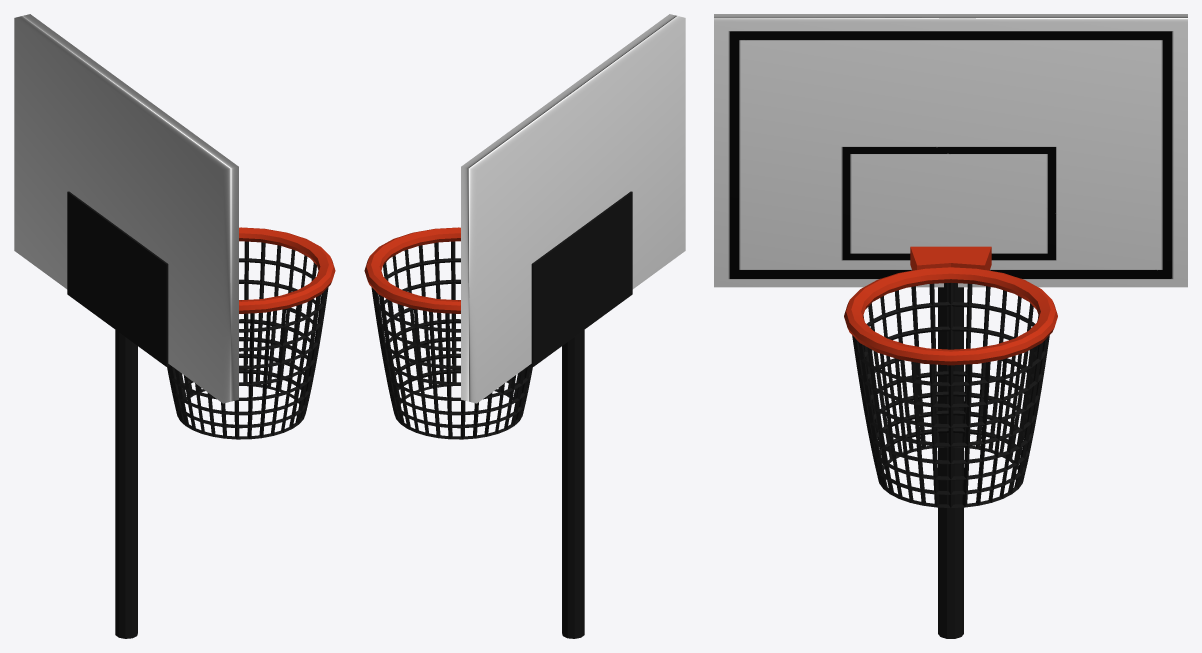
File: kos_1_kratak.obj
The picture shows the model from 3 angles, left to right: view 1: azimuth 30°, elevation 25°; view 2: azimuth 150°, elevation 25°; view 3: azimuth 270°, elevation 25°; orthographic projection. The views are drawn at different scales.
Visible parts, largest first — view 1: Cube, Cylinder.001, Cube.002, Cylinder, Torus; view 2: Cube, Cylinder.001, Cube.002, Cylinder, Torus; view 3: Cube, Cylinder.001, Torus, Cylinder, Cube.001.
Part boxes in pixels (bbox=[...]): Cube: bbox=[14, 14, 238, 403]; Cylinder.001: bbox=[167, 241, 328, 439]; Cube.002: bbox=[67, 191, 170, 366]; Cylinder: bbox=[115, 330, 137, 638]; Torus: bbox=[239, 227, 335, 313]; Cube: bbox=[461, 14, 685, 403]; Cylinder.001: bbox=[371, 241, 532, 439]; Cube.002: bbox=[529, 191, 632, 366]; Cylinder: bbox=[562, 330, 584, 638]; Torus: bbox=[364, 227, 460, 313]; Cube: bbox=[714, 14, 1187, 287]; Cylinder.001: bbox=[852, 283, 1049, 507]; Torus: bbox=[844, 267, 1057, 365]; Cylinder: bbox=[938, 283, 963, 638]; Cube.001: bbox=[910, 246, 991, 270].
Size of the model in its own units: 0.769 by 1.93 by 1.35.
3 materials, 1 textured.
